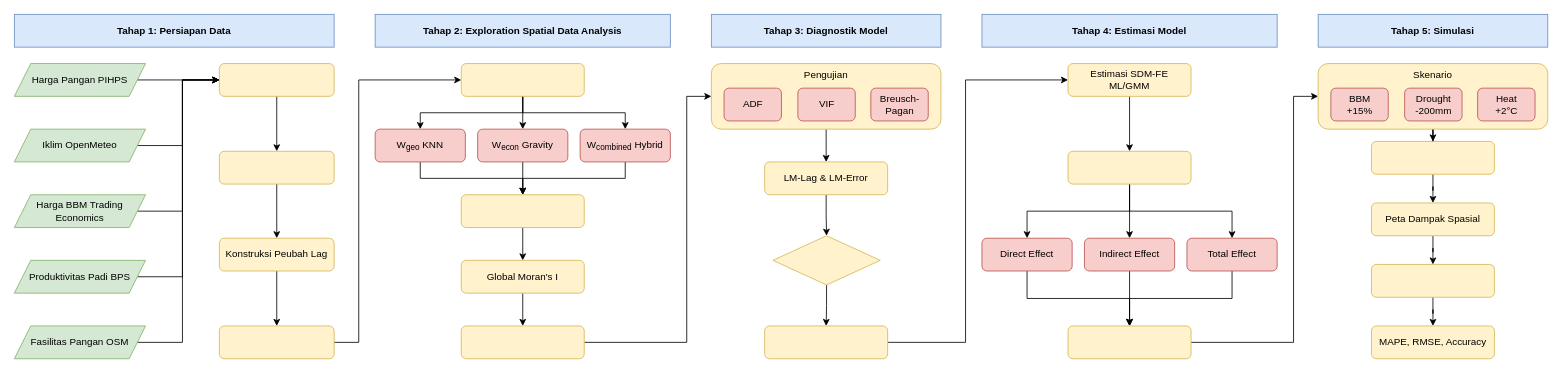
The diagram is 1562 pixels wide and 373 high, and some of its shapes have lost their labels. Here are the shapes that lost their labels. From the top down, the centre of each, then its label:
pixel 276 79: Integrasi Data
pixel 522 79: Konstruksi Bobot Spasial
pixel 276 167: Agregasi Temporal
pixel 1129 167: Dekomposisi Efek (I-ρW)⁻¹(βI+Wθ)
pixel 1432 157: Counterfactual Analysis ΔP=(I-ρW)⁻¹×(β+Wθ)×ΔX
pixel 522 211: Standarisasi Baris
pixel 826 260: Pemilihan Model SDM
pixel 1432 280: Forecast Validation Rolling Window
pixel 276 342: Balancing Data Panel
pixel 522 342: Local Moran's I
pixel 826 342: Uji Hauffman FE vs RE
pixel 1129 342: Validasi Residual
